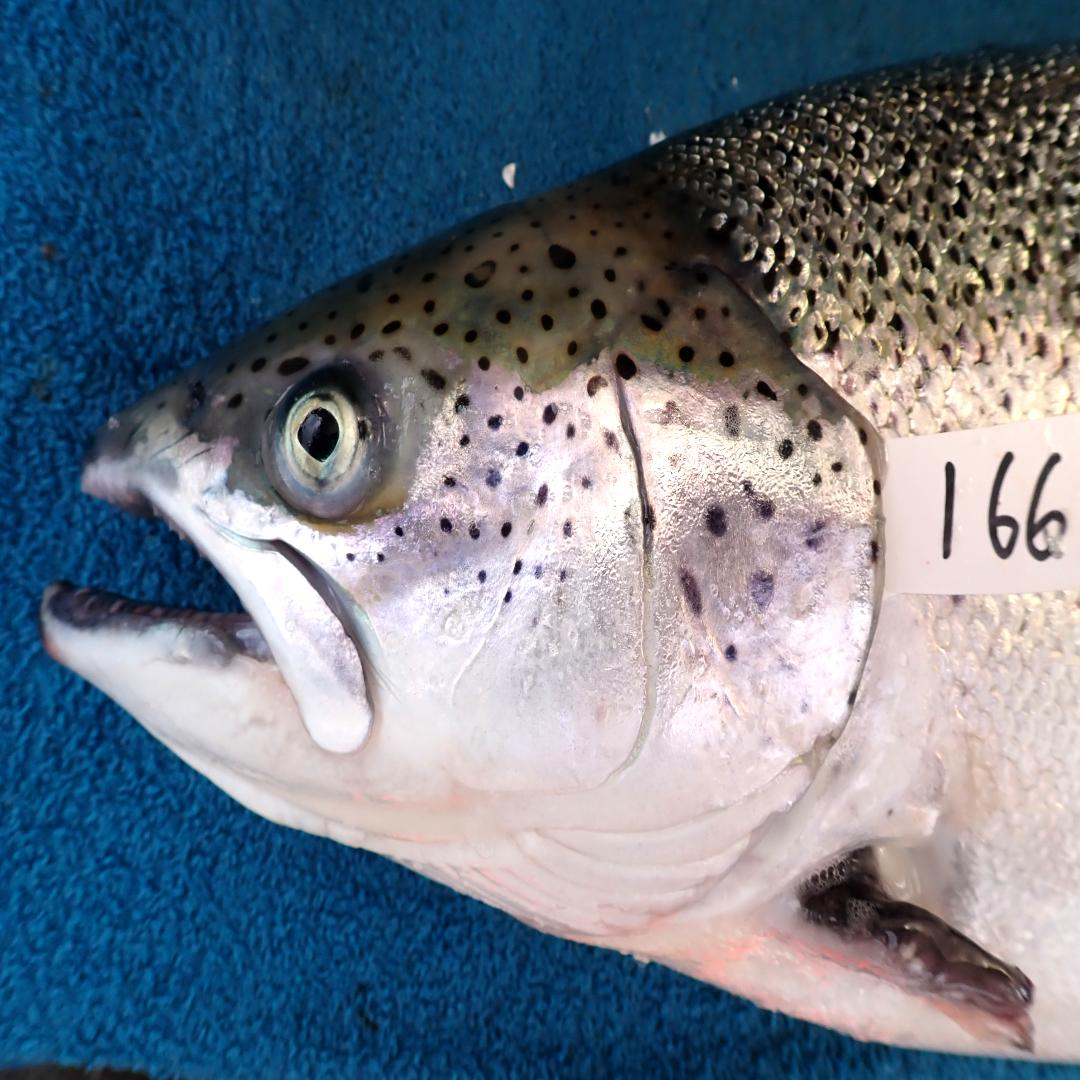roi: (363, 347, 884, 949)
